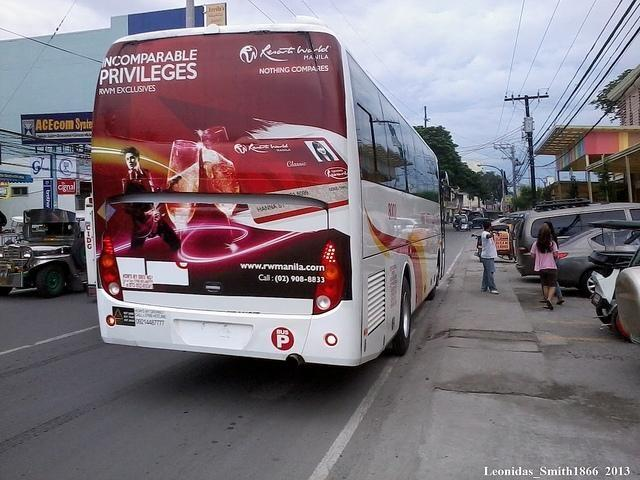bus: (90, 28, 447, 369)
car: (515, 198, 640, 280), (555, 226, 604, 296), (609, 239, 640, 344), (491, 210, 526, 235), (461, 214, 468, 218)
motorcycle: (590, 230, 640, 326)
truck: (0, 208, 88, 300)
